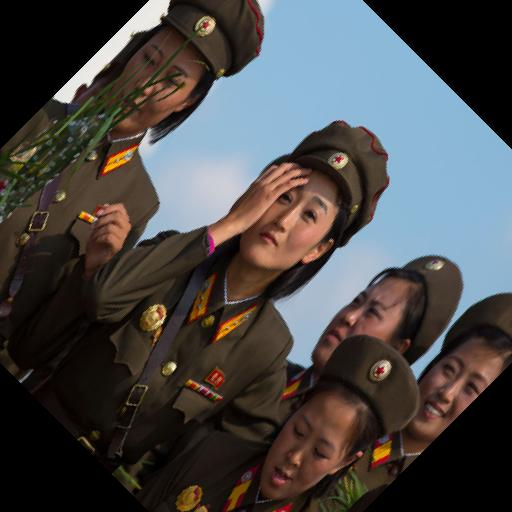north army: (12, 3, 512, 512)
